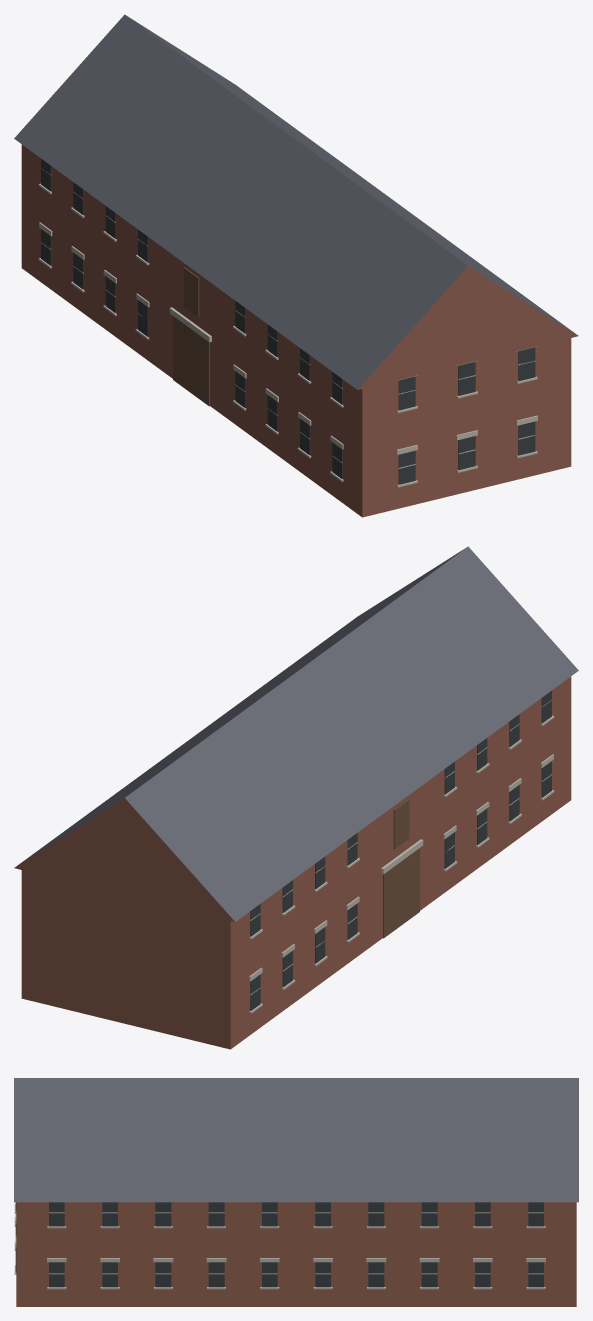
The model's file is house_1918_prairie_coach_house__draft_1904.glb.
The picture shows the model from 3 angles, top to bottom: view 1: azimuth 30°, elevation 25°; view 2: azimuth 150°, elevation 25°; view 3: azimuth 270°, elevation 25°; orthographic projection. The views are drawn at different scales.
Visible parts, largest first — view 1: house_1918_prairie_coach_house__draft_1904; view 2: house_1918_prairie_coach_house__draft_1904; view 3: house_1918_prairie_coach_house__draft_1904.
Boxes of the visible parts, x1,y1,x2,y2 form: house_1918_prairie_coach_house__draft_1904: [14, 14, 578, 517]; house_1918_prairie_coach_house__draft_1904: [14, 546, 578, 1049]; house_1918_prairie_coach_house__draft_1904: [14, 1078, 578, 1306].
Size of the model in its own units: 10.6 by 10.4 by 28.49.
